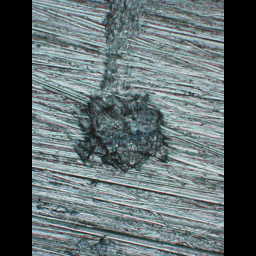d: (68, 94, 171, 172)
